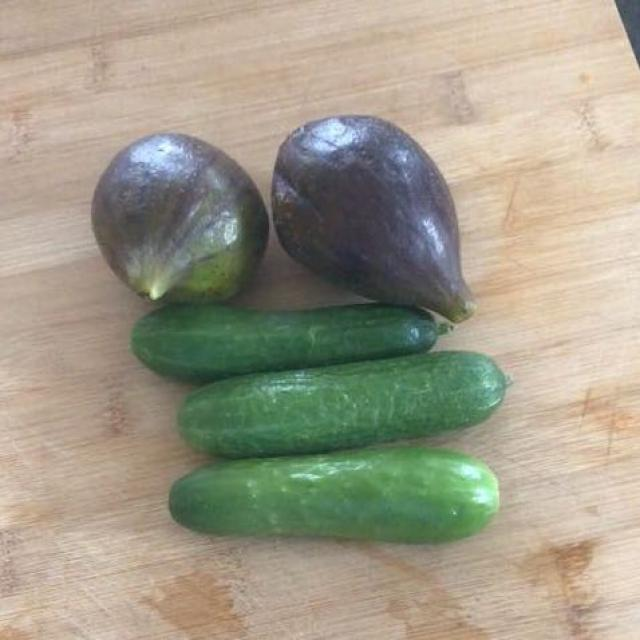cucumber: (140, 290, 516, 534)
figs: (89, 85, 473, 346)
